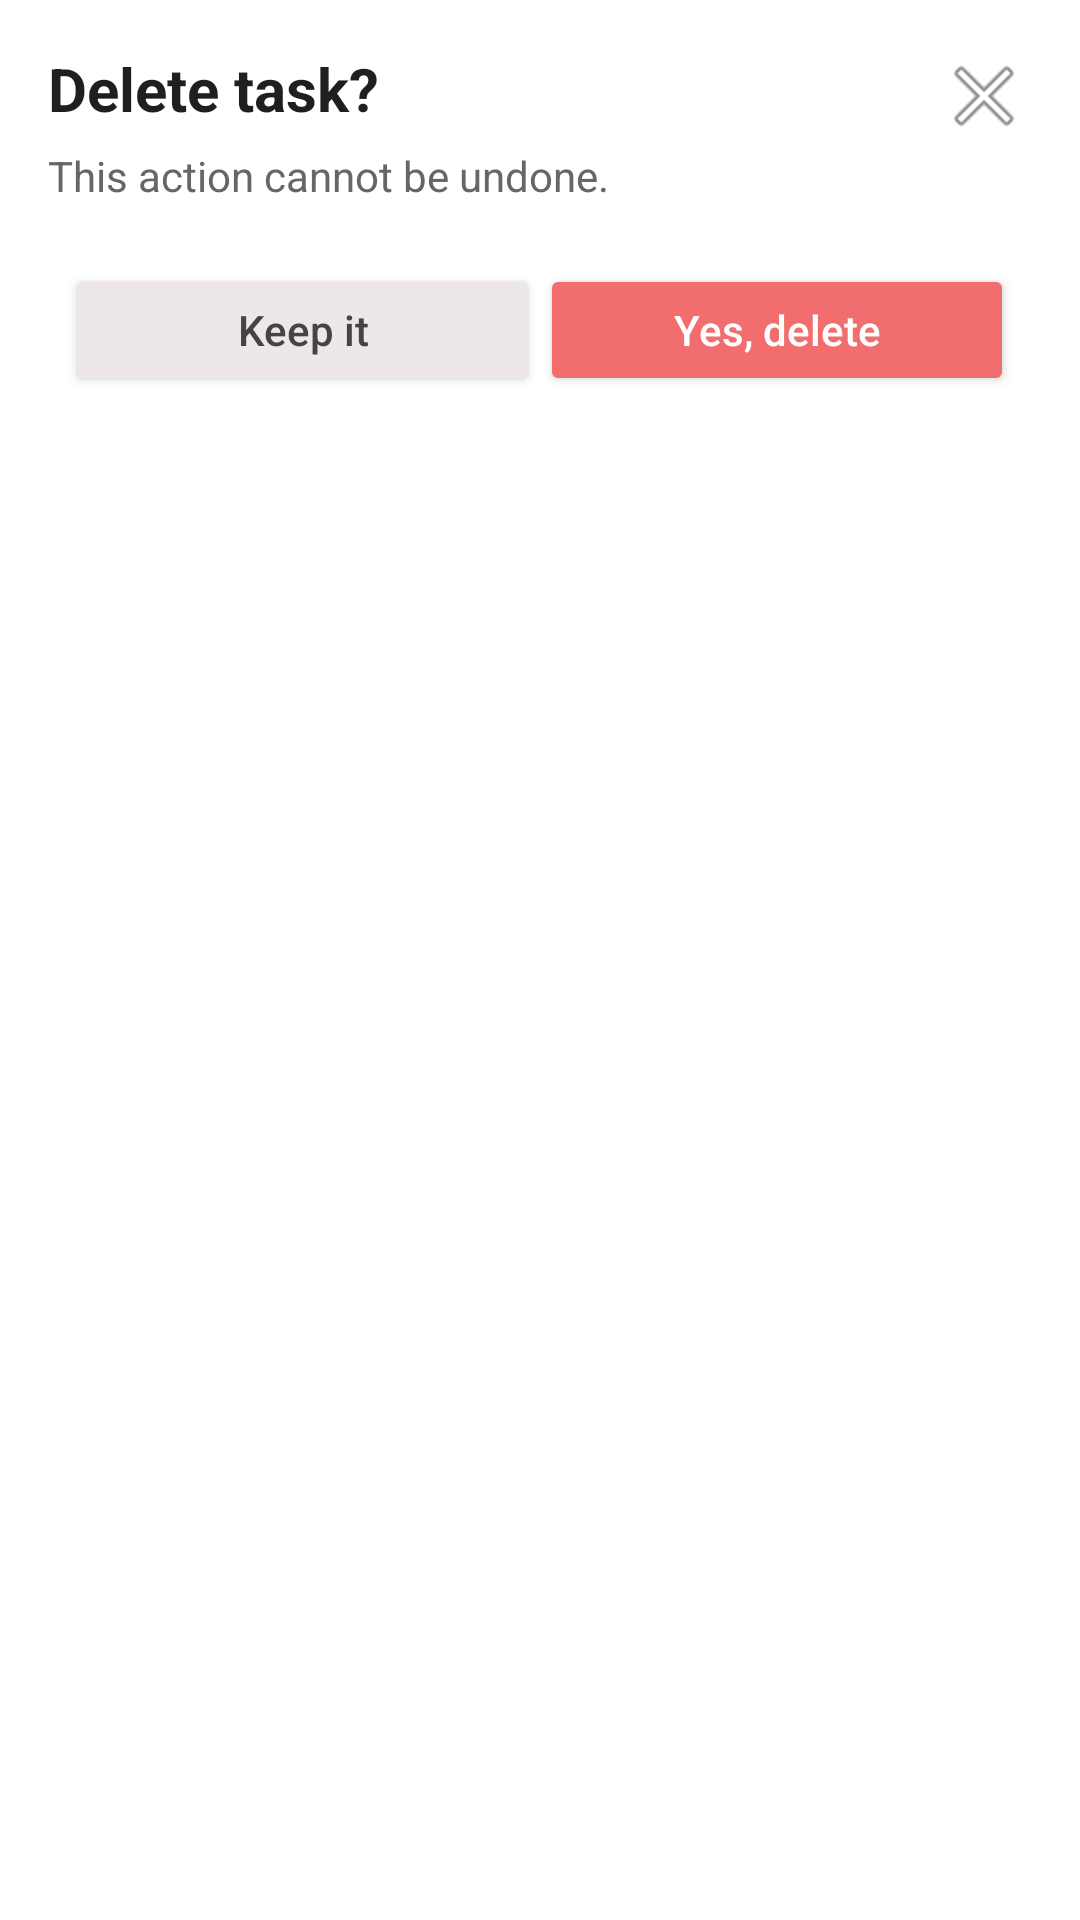

Screen size 1080x1920. Icon name, then its box in pixels as (x1, y1, x2, y2):
Close: (954, 66, 1014, 126)
